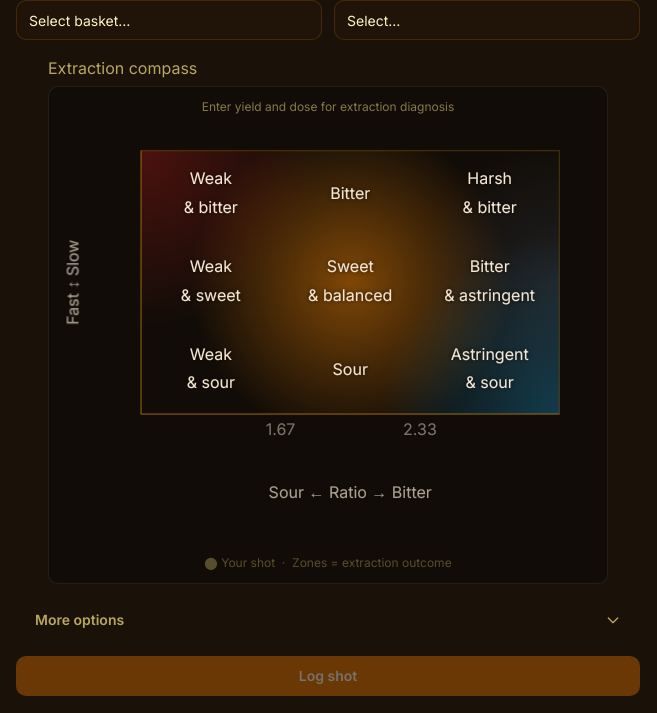
Test: BrewLogAdd › associates user-visible field labels with their controls
This screenshot has width=657, height=713.
(page scrolled)
Expected: the dropdown labelled "Basket" is shown, [16, 0, 322, 40]
Expected: the dropdown labelled "Shot eligibility *" is shown, [334, 0, 640, 40]
Click the button "More options": coordinates (80, 619) [16, 600, 640, 640]
(page scrolled)
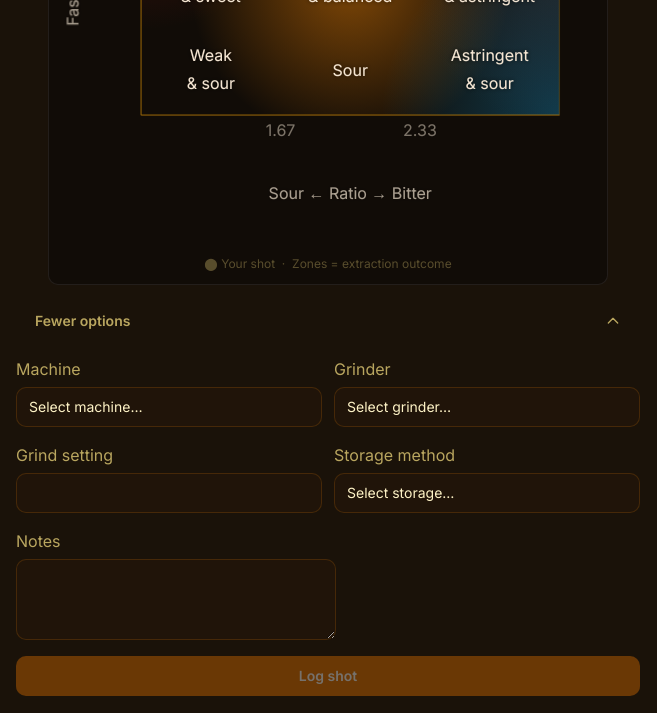
Expected: the dropdown labelled "Machine" is shown, [16, 387, 322, 427]
Expected: the dropdown labelled "Grinder" is shown, [334, 387, 640, 427]
Expected: the field labelled "Grind setting" is shown, [16, 473, 322, 513]
